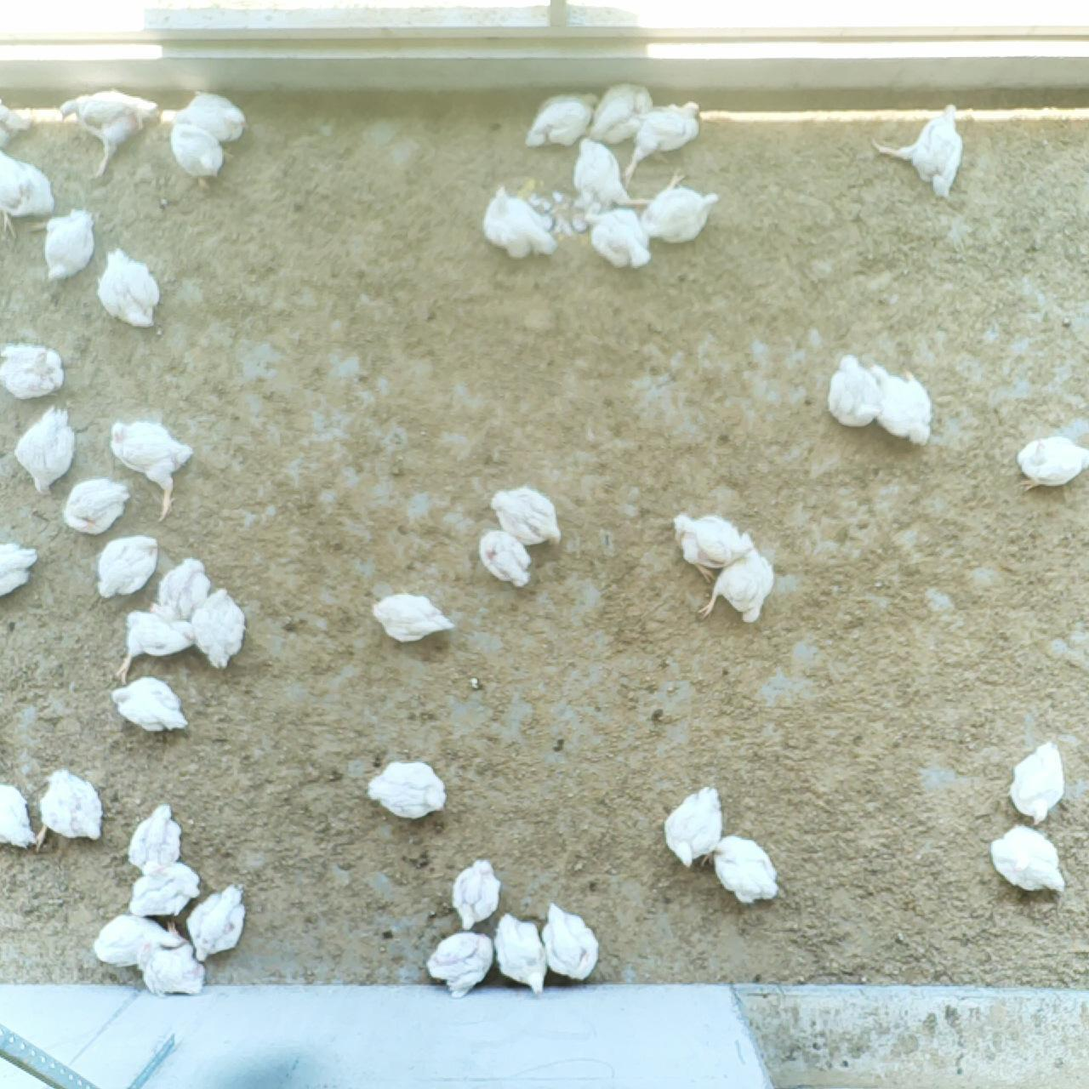chicken: (61, 87, 157, 185), (109, 418, 194, 522), (879, 100, 961, 201), (572, 137, 664, 214), (126, 859, 206, 941), (12, 402, 77, 501), (633, 167, 710, 245), (989, 823, 1069, 897), (157, 88, 250, 151), (34, 773, 110, 850), (478, 187, 558, 258), (698, 548, 776, 619), (540, 897, 601, 987), (869, 362, 934, 446), (119, 610, 192, 684), (492, 906, 550, 998), (1008, 744, 1070, 830), (674, 510, 751, 579), (95, 249, 157, 334), (93, 912, 186, 967), (663, 786, 723, 871), (364, 765, 448, 825), (423, 931, 497, 997), (579, 202, 653, 267), (485, 485, 560, 549), (636, 103, 703, 174), (712, 839, 777, 912), (132, 938, 212, 997), (40, 208, 99, 285), (1019, 435, 1089, 499), (123, 805, 184, 878), (372, 593, 456, 646), (148, 561, 212, 628), (188, 882, 242, 961), (166, 123, 230, 189), (825, 355, 882, 428), (1, 154, 52, 233), (454, 857, 503, 938), (60, 480, 131, 534), (529, 94, 597, 149), (589, 84, 649, 146), (1, 343, 65, 401), (199, 586, 239, 670), (1, 763, 37, 854), (478, 530, 533, 589), (97, 535, 151, 593), (1, 537, 40, 601), (1, 92, 25, 154)
